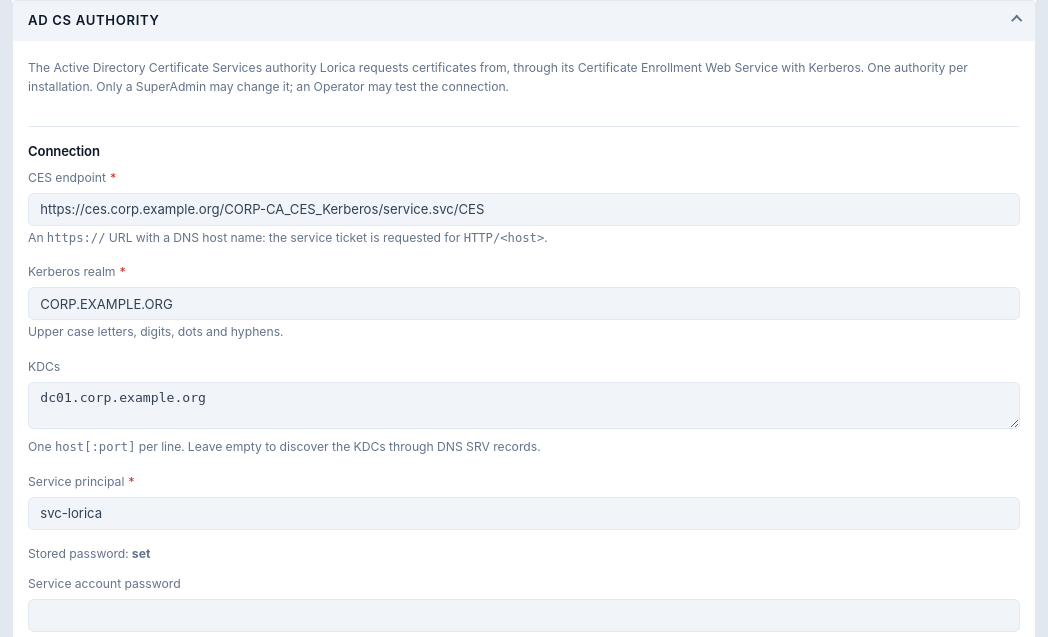
Test: AdcsAuthorityTab password › warns that an identity change needs the password again, and does not send without it
Type "OTHER.EXAMPLE.ORG" into the field labelled "Kerberos realm *" at (524, 304), box [28,287,1020,320]
(page scrolled)
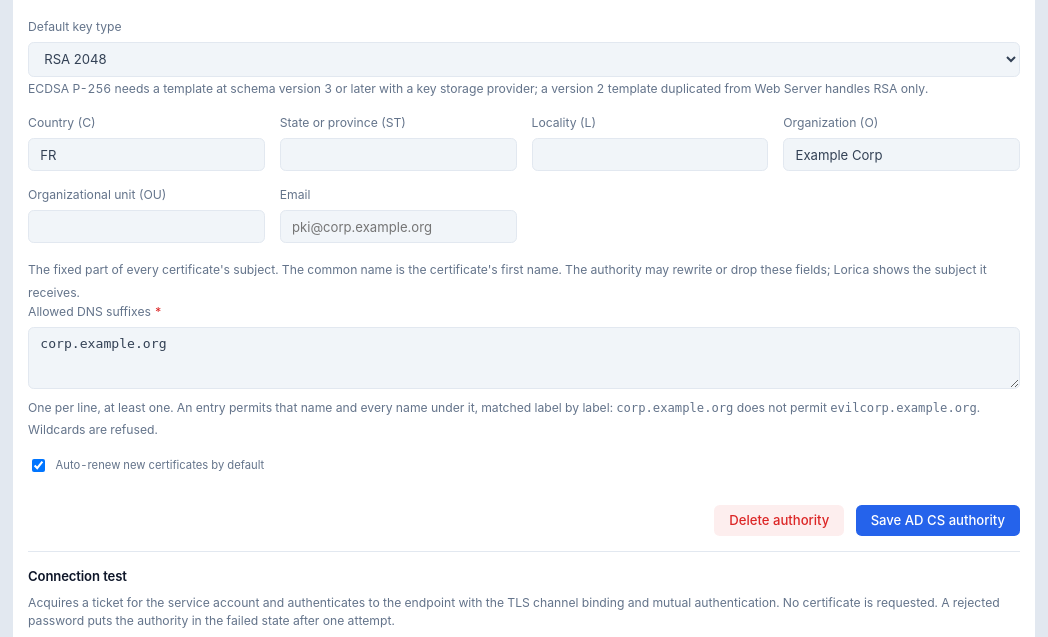
Click the button "Save AD CS authority" at (938, 520), box [856,504,1020,536]
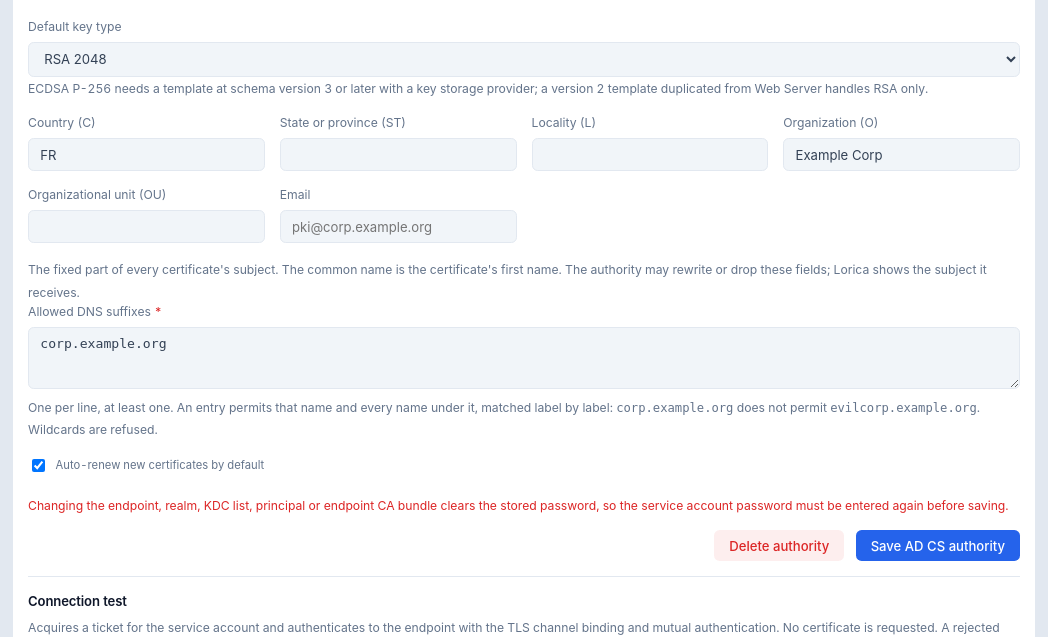
Now the message with test id "adcs-form-error" shows "password must be entered again", box [28,498,1009,513]
